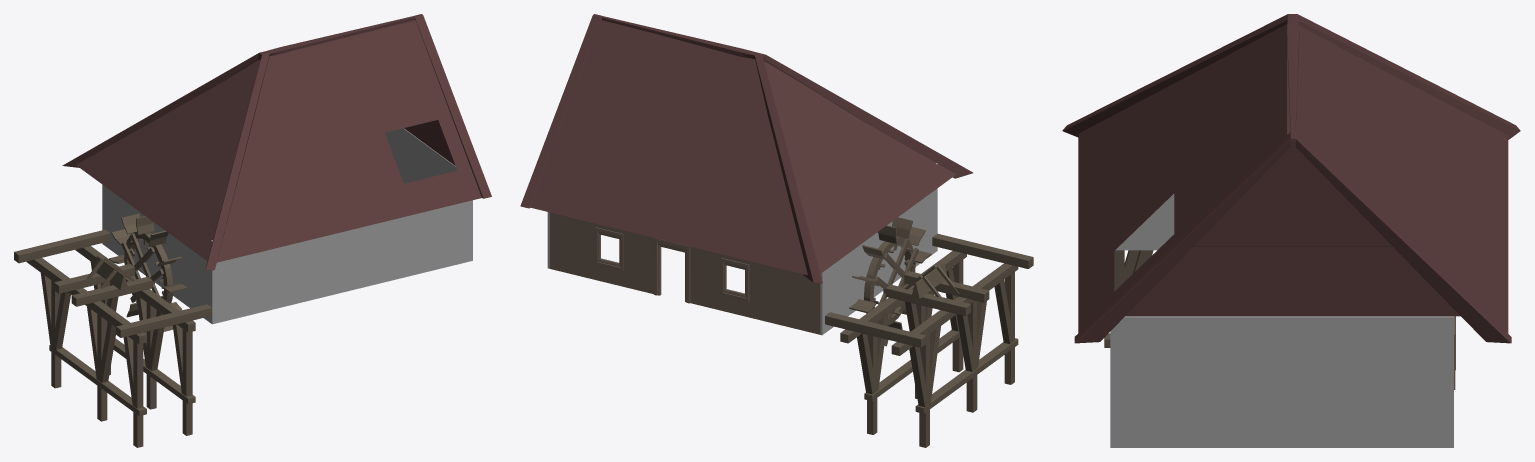
The model's file is HouseV5.fbx.
The picture shows the model from 3 angles, left to right: view 1: azimuth 30°, elevation 25°; view 2: azimuth 150°, elevation 25°; view 3: azimuth 270°, elevation 25°; orthographic projection. The views are drawn at different scales.
Visible parts, largest first — view 1: Walls1, BlocksTop, MillWheel, BlocksBottom, Pillar3, Pillar1, Pillar4, Pillar5, Pillar, Blocks1, Blocks; view 2: Walls1, BlocksTop, MillWheel, BlocksBottom, Pillar3, Pillar1, Pillar2, Pillar4, Blocks1, Blocks, Pillar5, Pillar; view 3: Walls1, Pillar5.
Part boxes in pixels (x1,y1,x2,y2): Walls1: [62, 14, 491, 324]; BlocksTop: [26, 246, 195, 344]; MillWheel: [109, 213, 186, 331]; BlocksBottom: [49, 338, 195, 415]; Pillar3: [40, 267, 70, 388]; Pillar1: [87, 306, 115, 421]; Pillar4: [123, 336, 143, 447]; Pillar5: [172, 324, 192, 435]; Pillar: [136, 295, 164, 409]; Blocks1: [14, 229, 109, 263]; Blocks: [116, 304, 211, 337]; Walls1: [520, 14, 972, 335]; BlocksTop: [840, 251, 1018, 355]; MillWheel: [849, 217, 931, 346]; BlocksBottom: [864, 329, 1018, 413]; Pillar3: [909, 321, 941, 447]; Pillar1: [956, 300, 986, 412]; Pillar2: [857, 314, 888, 434]; Pillar4: [994, 272, 1014, 384]; Blocks1: [825, 312, 926, 347]; Blocks: [932, 233, 1033, 268]; Pillar5: [946, 260, 963, 372]; Pillar: [905, 290, 934, 398]; Walls1: [1062, 14, 1520, 447]; Pillar5: [1114, 250, 1153, 291].
Bounding box in the file's own units: 18.15 × 14.79 × 12.73.
